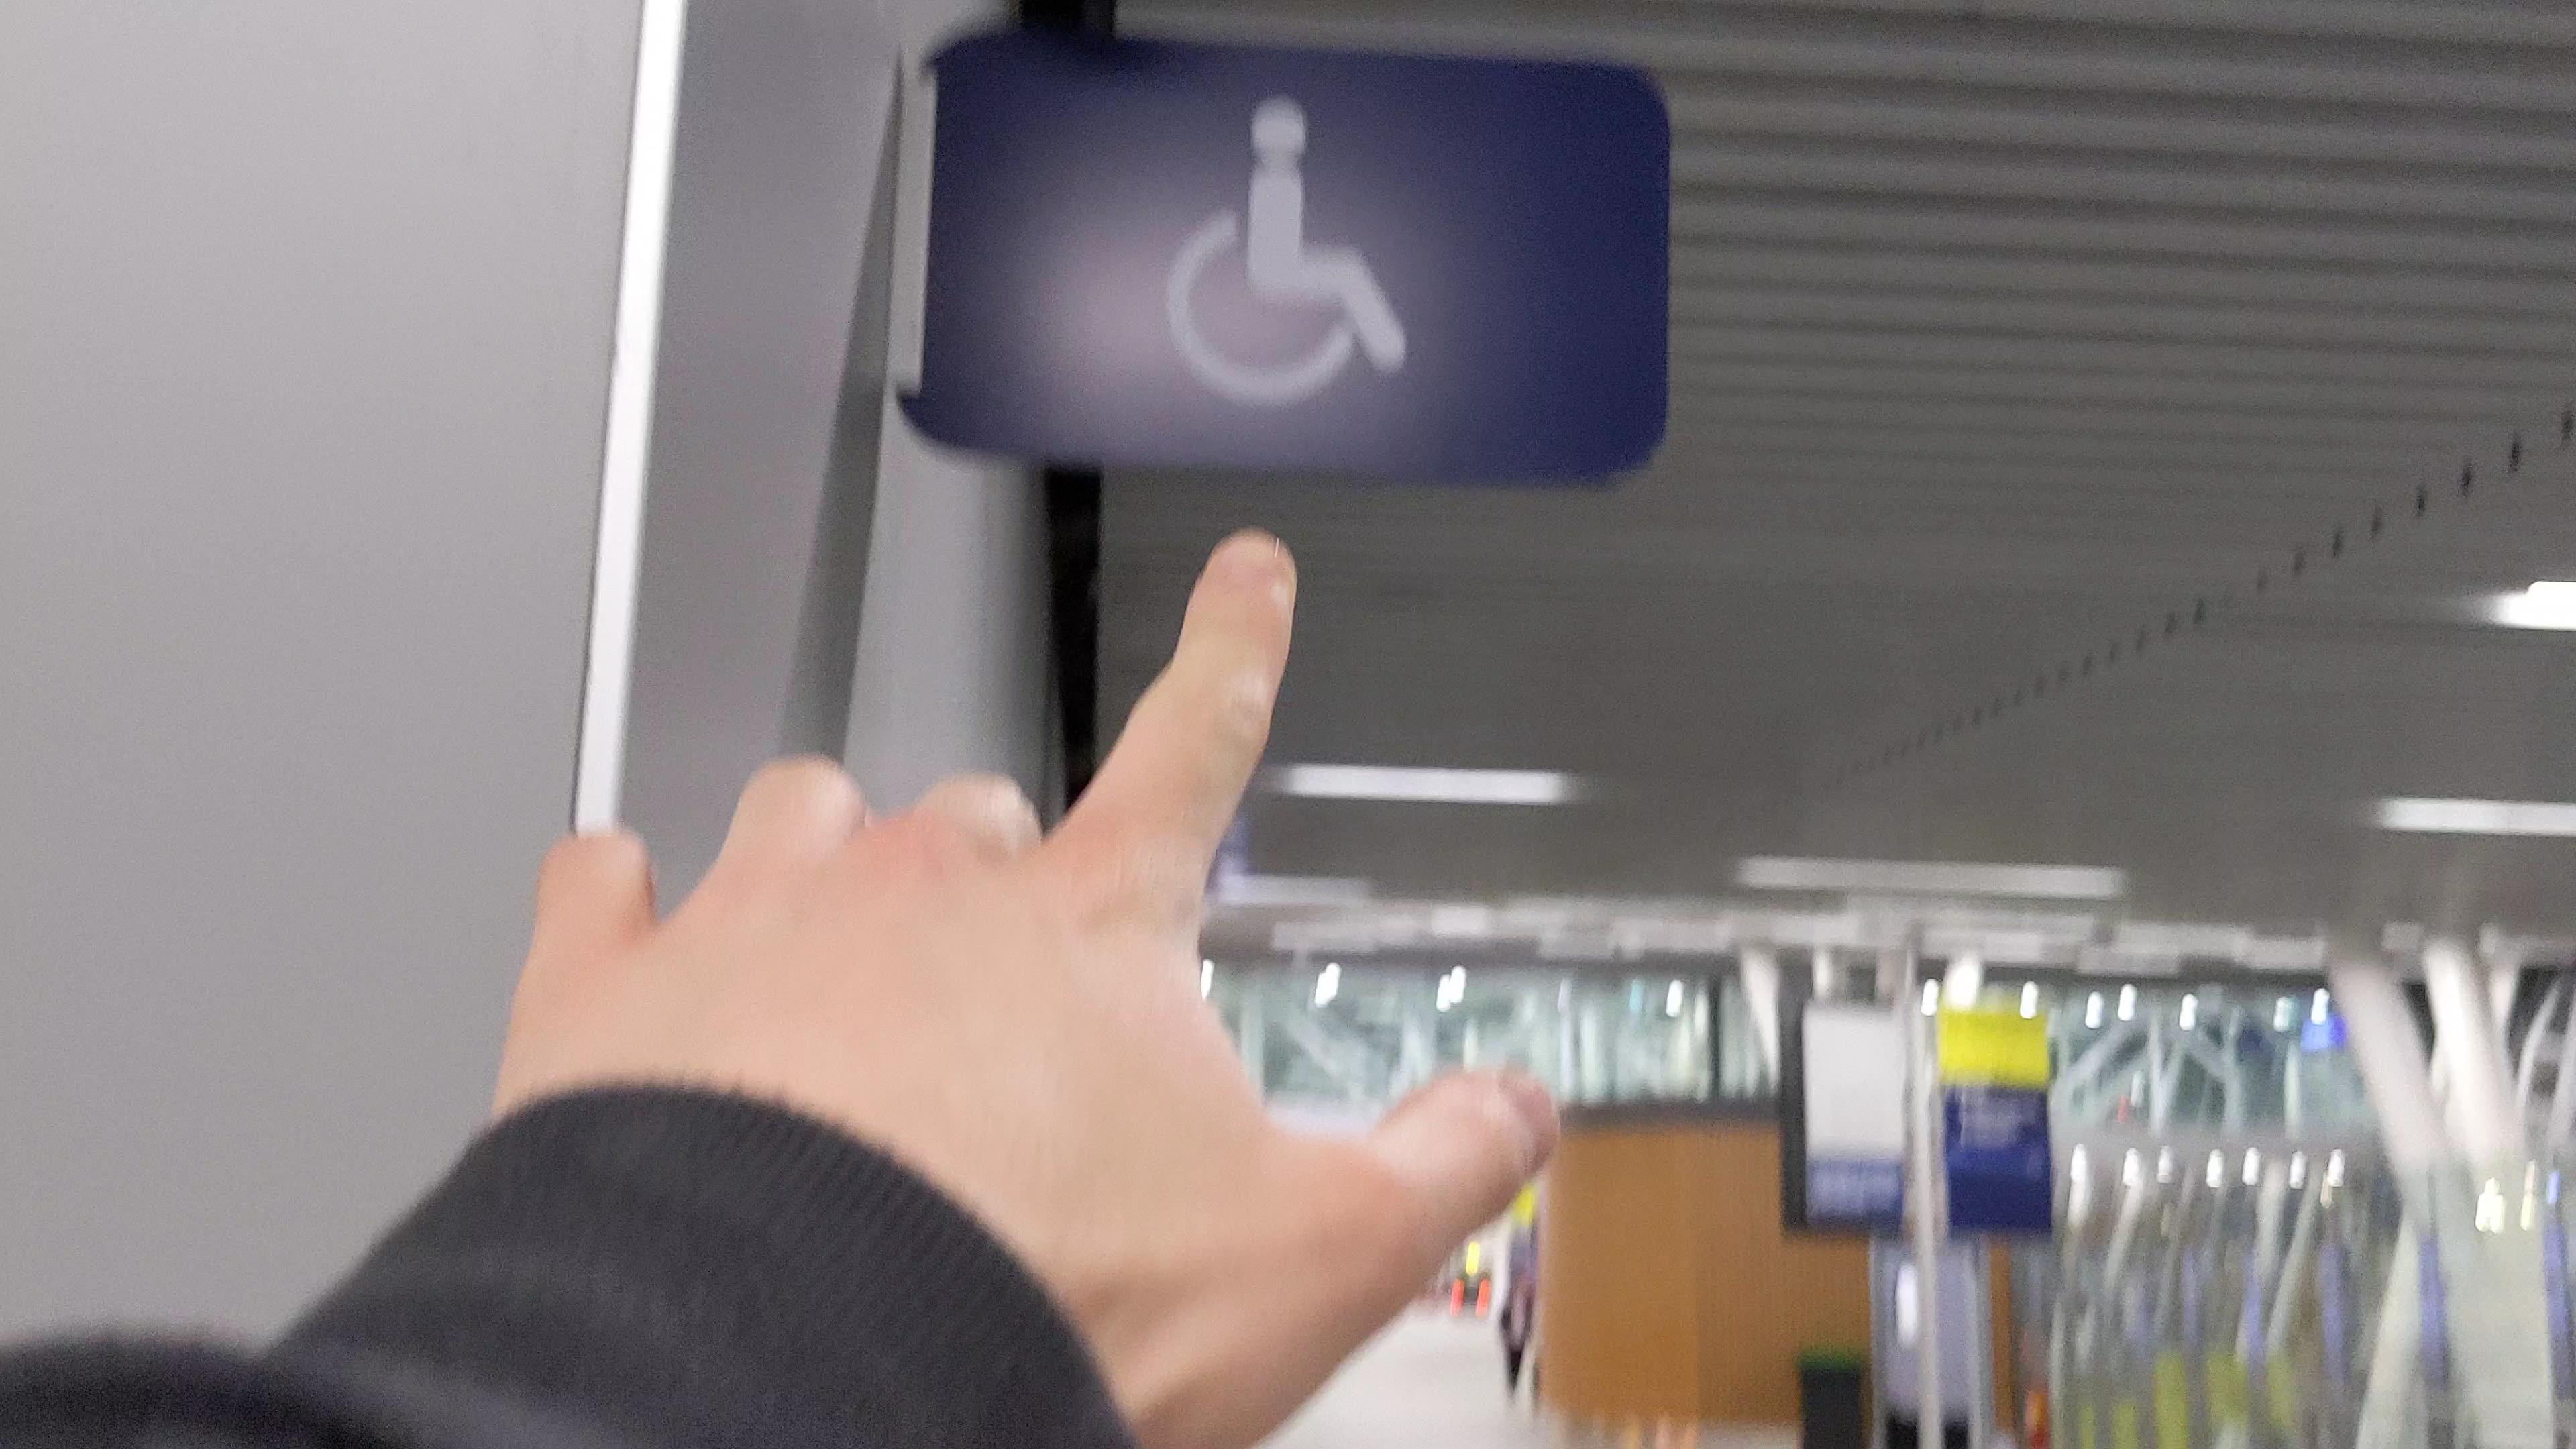handicapped symbol: (1166, 90, 1415, 412)
